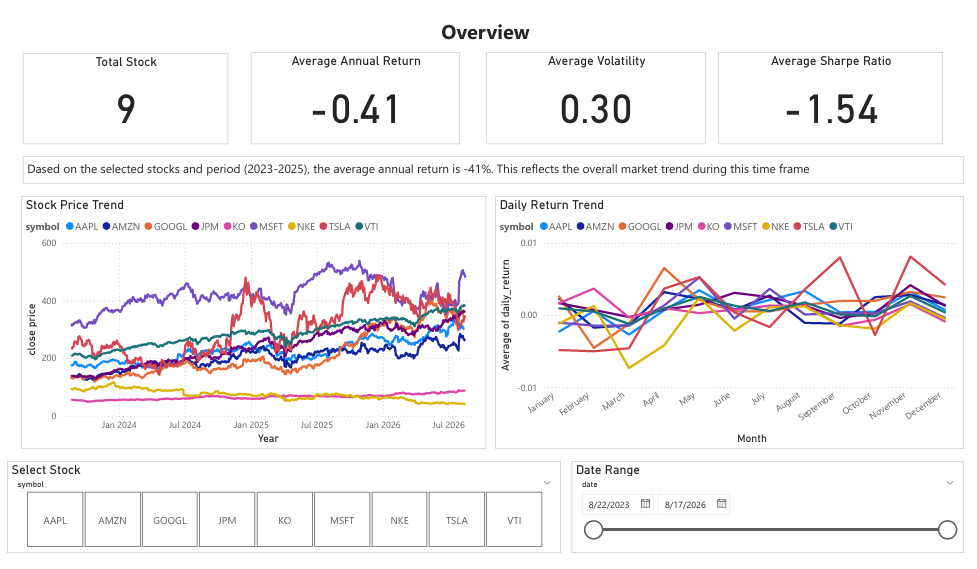

The page's visual inventory and layout, read from the dashboard file:
{"tool":"powerbi","page":{"name":"Page 1","canvas":[1280,720],"ordinal":0},"visuals":[{"type":"card","title":"Average Annual Return","fields":{"Values":["Avg(public dim_stock_metrics.annualized_return)"]},"box":[326.4,50.9,280.1,122.7],"z":0},{"type":"textbox","box":[0,0,1280,51.8],"z":1000},{"type":"textbox","box":[20.8,189.8,1259.2,37],"z":2000},{"type":"card","title":"Total Stock","fields":{"Values":["Count(public dim_stock_metrics.symbol)"]},"box":[21.3,51.8,274.3,121.9],"z":3000},{"type":"card","title":"Average Volatility","fields":{"Values":["Avg(public dim_stock_metrics.volatility)"]},"box":[641.2,50.9,294,122.7],"z":4000},{"type":"card","title":"Average Sharpe Ratio","fields":{"Values":["Avg(public dim_stock_metrics.sharpe_ratio)"]},"box":[951.3,50.9,300.9,122.7],"z":5000},{"type":"lineChart","title":"Stock Price Trend","fields":{"Series":["public fct_stock_analysis_with_sentiment.symbol"],"Y":["public fct_stock_analysis_with_sentiment.close price"],"Category":["public fct_stock_analysis_with_sentiment.date.Variation.Date Hierarchy.Year","public fct_stock_analysis_with_sentiment.date.Variation.Date Hierarchy.Quarter","public fct_stock_analysis_with_sentiment.date.Variation.Date Hierarchy.Month","public fct_stock_analysis_with_sentiment.date.Variation.Date Hierarchy.Day"]},"box":[18.5,243,622.6,337.9],"z":6000},{"type":"slicer","title":"Select Stock","fields":{"Values":["public fct_stock_analysis_with_sentiment.symbol"]},"box":[0,597.2,740.7,122.7],"z":7000},{"type":"slicer","title":"Date Range","fields":{"Values":["public fct_stock_analysis_with_sentiment.date"]},"box":[754.6,597.2,525.4,122.7],"z":8000},{"type":"lineChart","title":"Daily Return Trend","fields":{"Series":["public fct_stock_analysis_with_sentiment.symbol"],"Y":["Avg(public fct_stock_analysis_with_sentiment.daily_return)"],"Category":["public fct_stock_analysis_with_sentiment.date.Variation.Date Hierarchy.Month"]},"box":[652.7,243,627.3,337.9],"z":9000}]}

Visuals, with their boxes on the page's 1280x720 design canvas (x1, y1, x2, y2). These are canvas units, not pixel positions in the 977x569 screenshot, which may show the page scaled, cropped or inside an application window:
"Average Annual Return" card: rect(326, 51, 606, 174)
textbox: rect(0, 0, 1280, 52)
textbox: rect(21, 190, 1280, 227)
"Total Stock" card: rect(21, 52, 296, 174)
"Average Volatility" card: rect(641, 51, 935, 174)
"Average Sharpe Ratio" card: rect(951, 51, 1252, 174)
"Stock Price Trend" lineChart: rect(18, 243, 641, 581)
"Select Stock" slicer: rect(0, 597, 741, 720)
"Date Range" slicer: rect(755, 597, 1280, 720)
"Daily Return Trend" lineChart: rect(653, 243, 1280, 581)
